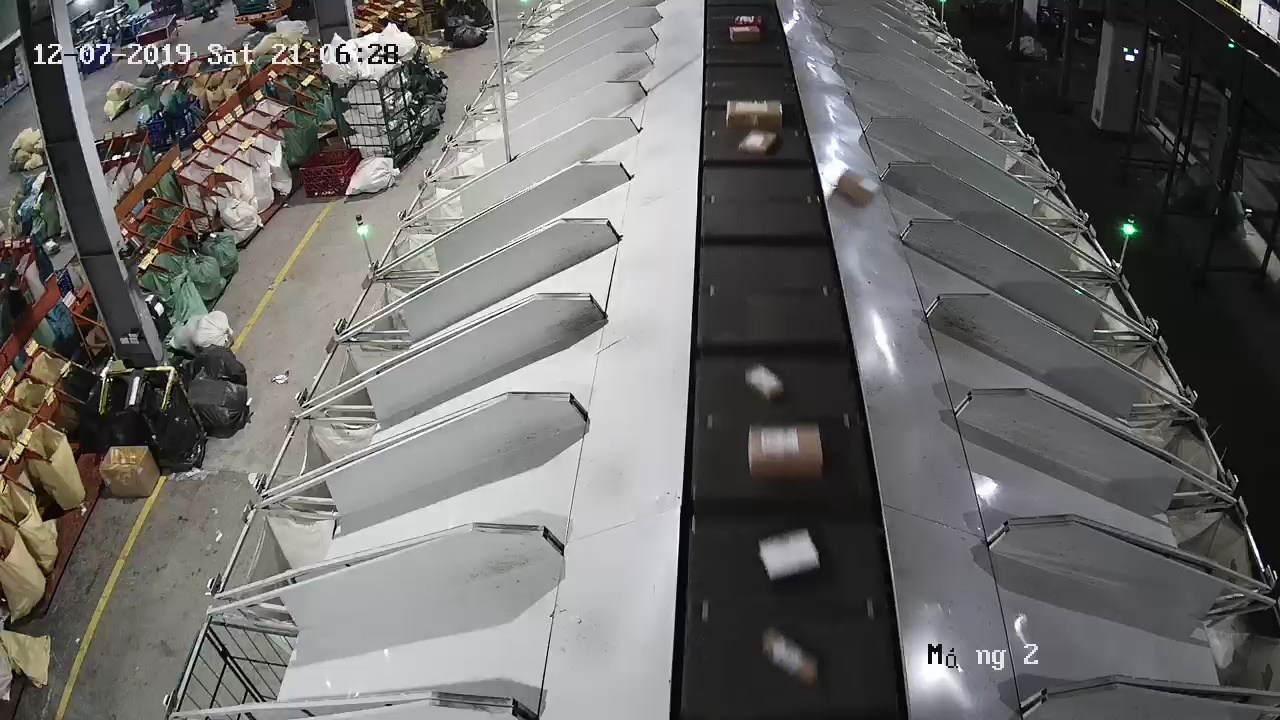parcel: (835, 168, 881, 208)
